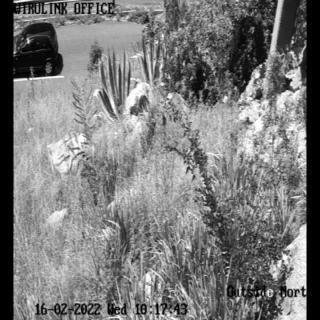car: (13, 23, 58, 77)
